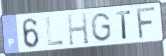6: (21, 16, 42, 50)
F: (136, 6, 158, 41)
G: (89, 11, 113, 43)
H: (66, 12, 91, 47)
L: (44, 17, 64, 48)
T: (115, 9, 132, 40)
